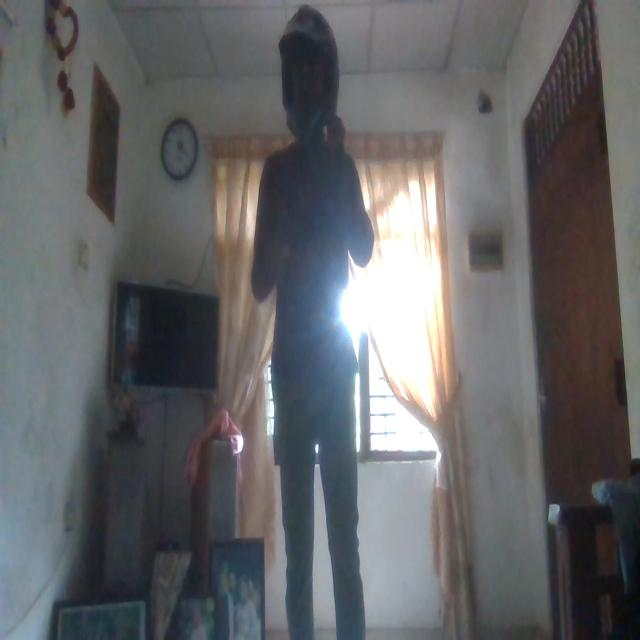Helmet_Wearer: (275, 5, 355, 151)
Person: (251, 6, 383, 640)
